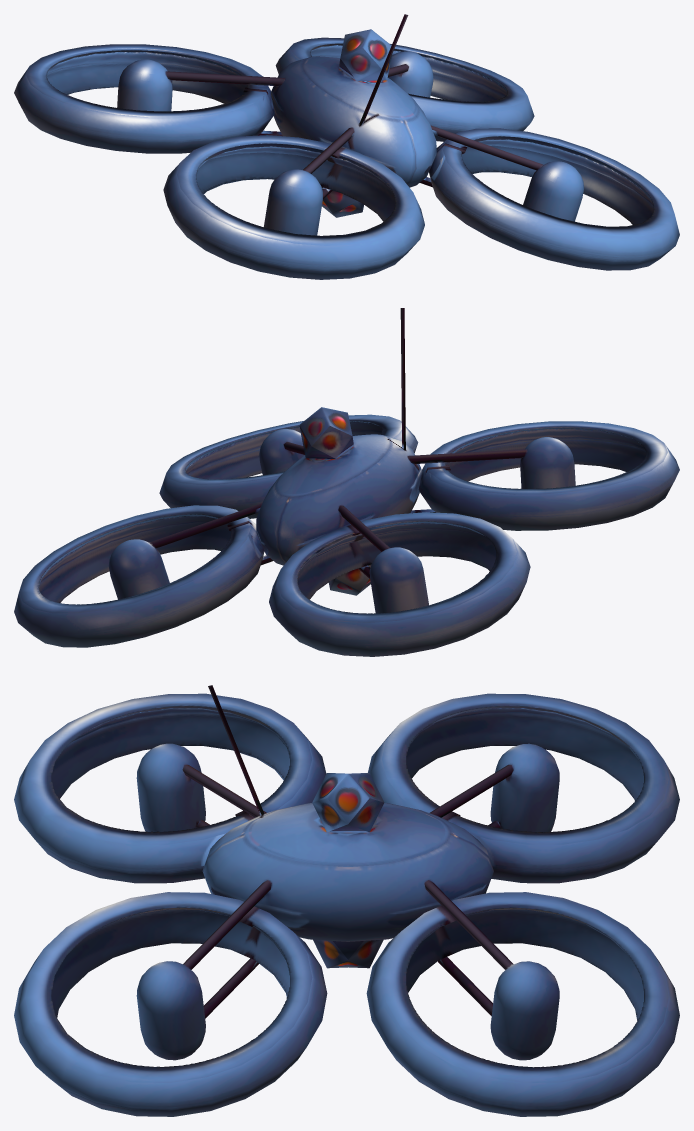
File: Drone_Anim.fbx
The picture shows the model from 3 angles, top to bottom: view 1: azimuth 30°, elevation 25°; view 2: azimuth 150°, elevation 25°; view 3: azimuth 270°, elevation 25°; orthographic projection. The views are drawn at different scales.
Visible parts, largest first — view 1: LRM; view 2: LRM; view 3: LRM.
Part boxes in pixels (box(x1,y1,x2,y2)): LRM: box(14, 14, 679, 279); LRM: box(14, 308, 679, 656); LRM: box(14, 685, 679, 1116).
Size of the model in its own units: 253 by 127 by 254.
